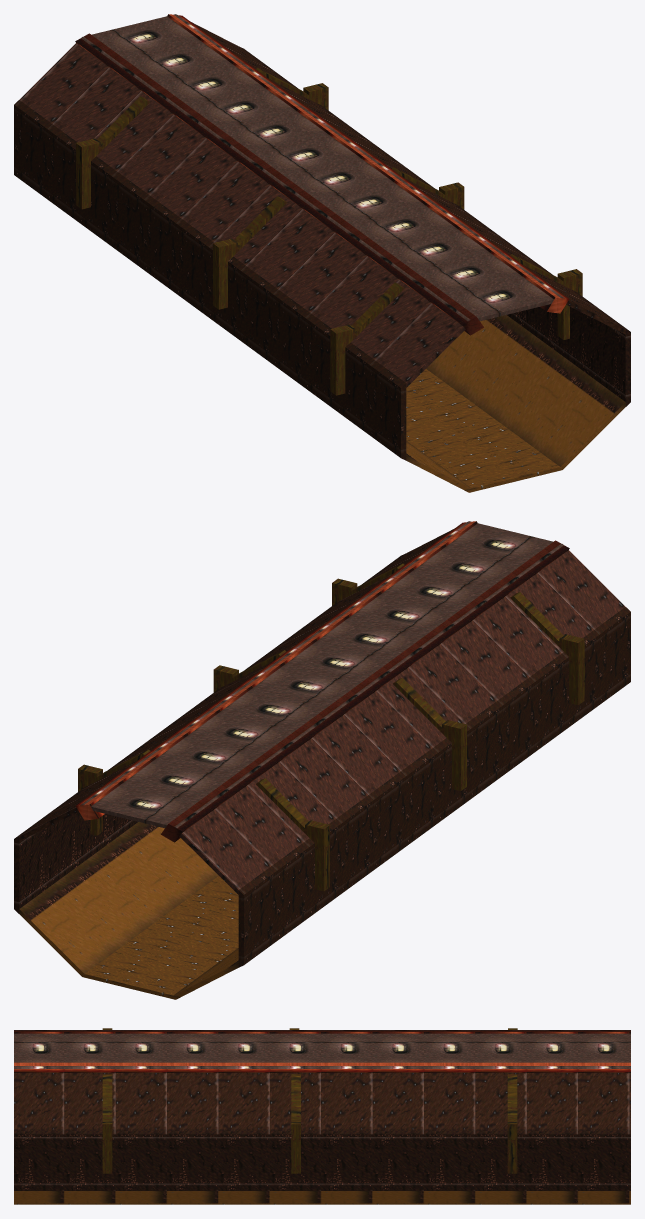
The model's file is Tunn.glb.
The picture shows the model from 3 angles, top to bottom: view 1: azimuth 30°, elevation 25°; view 2: azimuth 150°, elevation 25°; view 3: azimuth 270°, elevation 25°; orthographic projection. The views are drawn at different scales.
Parts seen in each view (by area): view 1: Tunn; view 2: Tunn; view 3: Tunn.
Part boxes in pixels (box(x1,y1,x2,y2)): Tunn: box(14, 14, 630, 492); Tunn: box(14, 521, 630, 999); Tunn: box(14, 1028, 630, 1204).
Bounding box in the file's own units: 565 × 382 × 1537.
10 materials, 10 textured.
